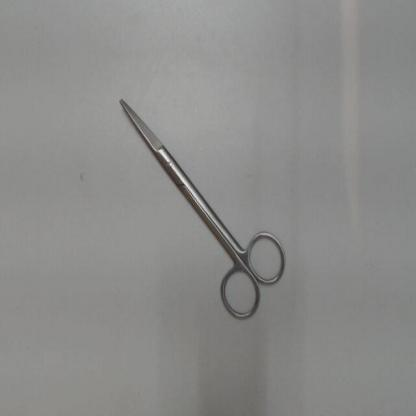Curved Mayo Scissors: (113, 90, 290, 328)
